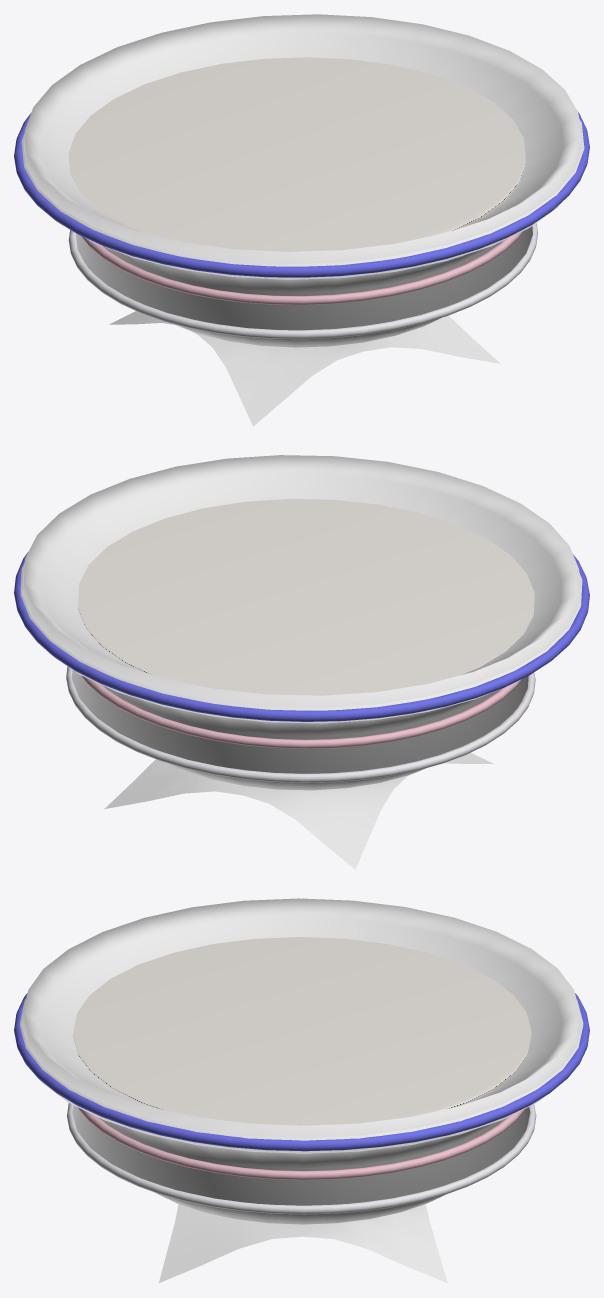
3 views of the same model, one above another, from view 1: azimuth 30°, elevation 25°; view 2: azimuth 150°, elevation 25°; view 3: azimuth 270°, elevation 25° (orthographic).
Visible parts, largest first — view 1: Cylinder, Sphere, Plane, BezierCircle.003, BezierCircle.002, BezierCircle; view 2: Cylinder, Sphere, Plane, BezierCircle.003, BezierCircle.002, BezierCircle; view 3: Cylinder, Sphere, Plane, BezierCircle.003, BezierCircle.002, BezierCircle.
Part boxes in pixels (box(x1,y1,x2,y2)): Cylinder: box(68, 57, 525, 251); Sphere: box(21, 14, 584, 347); Plane: box(109, 311, 500, 426); BezierCircle.003: box(14, 111, 589, 277); BezierCircle.002: box(68, 223, 538, 339); BezierCircle: box(81, 231, 523, 304); Cylinder: box(78, 499, 534, 695); Sphere: box(20, 455, 582, 790); Plane: box(104, 752, 493, 869); BezierCircle.003: box(14, 552, 589, 721); BezierCircle.002: box(66, 666, 535, 782); BezierCircle: box(80, 675, 522, 748); Cylinder: box(73, 937, 531, 1125); Sphere: box(20, 898, 583, 1224); Plane: box(159, 1204, 447, 1283); BezierCircle.003: box(14, 993, 589, 1151); BezierCircle.002: box(67, 1103, 536, 1214); BezierCircle: box(78, 1107, 525, 1179).
Size of the model in its own units: 2.43 by 1.01 by 2.43.
